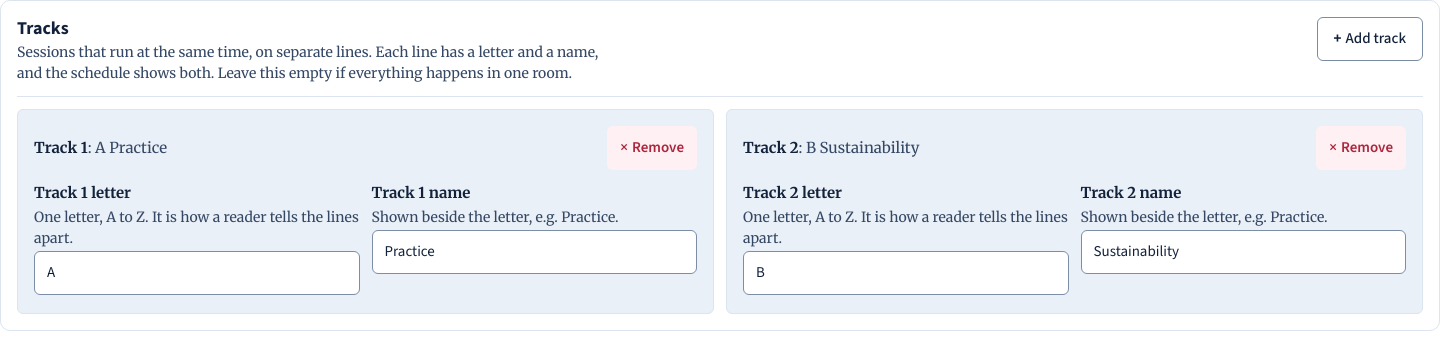
Test: EventTracksEditor › removes an unused track at once and says it goes on save
Step 1. Click the button with aria-label "Remove track 2, B Sustainability" → (1361, 148), box [1316,126,1406,170]
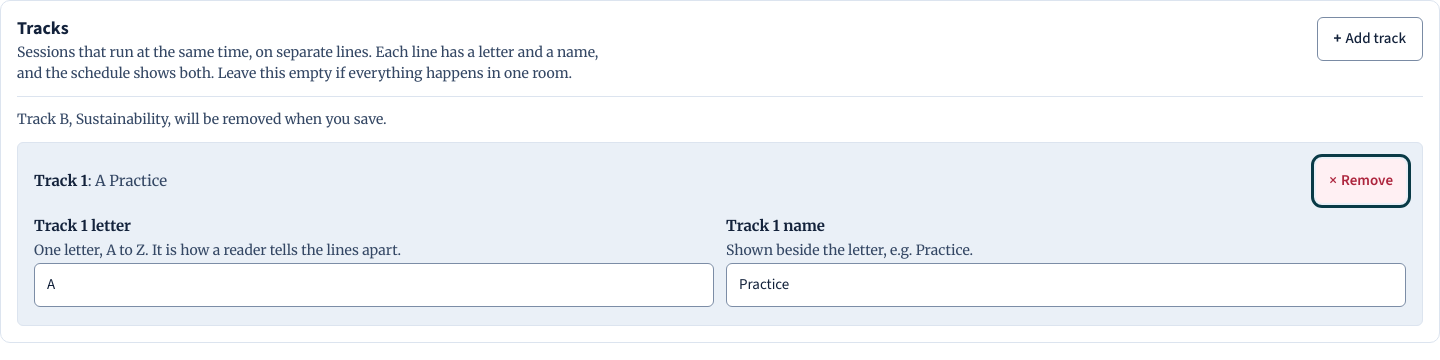
Expected: the message reads "Track B, Sustainability, will be removed when you save.", [17,110,387,128]
